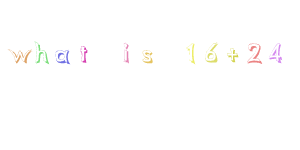+: (226, 48, 239, 62)
1: (186, 43, 197, 64)
2: (247, 41, 263, 64)
4: (267, 41, 283, 63)
6: (204, 42, 218, 62)
a: (54, 49, 70, 64)
h: (35, 42, 50, 63)
i: (121, 43, 131, 63)
s: (141, 49, 153, 63)
t: (79, 44, 88, 63)
w: (8, 48, 32, 63)
